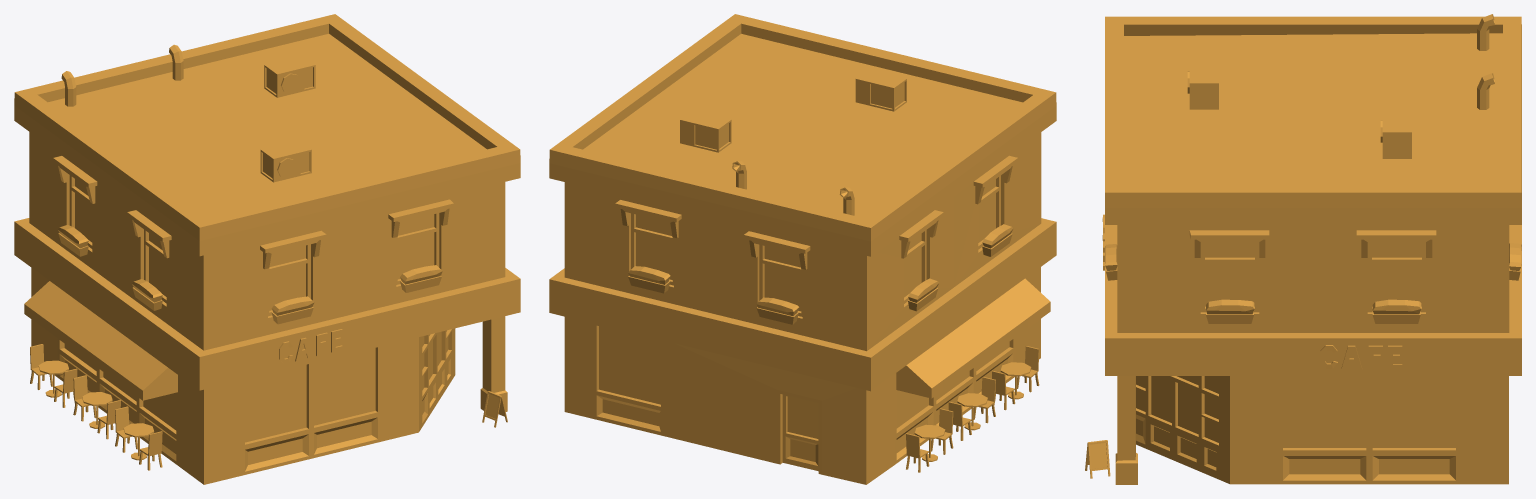
Rendered from building-cafe.fbx.
3 views of the same model, side by side, from view 1: azimuth 30°, elevation 25°; view 2: azimuth 150°, elevation 25°; view 3: azimuth 270°, elevation 25° (orthographic). The views are drawn at different scales.
Parts seen in each view (by area): view 1: building-cafe; view 2: building-cafe; view 3: building-cafe.
Boxes of the visible parts, box(x1,y1,x2,y2) form: building-cafe: box(14, 14, 520, 484); building-cafe: box(549, 14, 1056, 484); building-cafe: box(1085, 14, 1521, 484).
Size of the model in its own units: 10.85 by 8.49 by 10.48.
